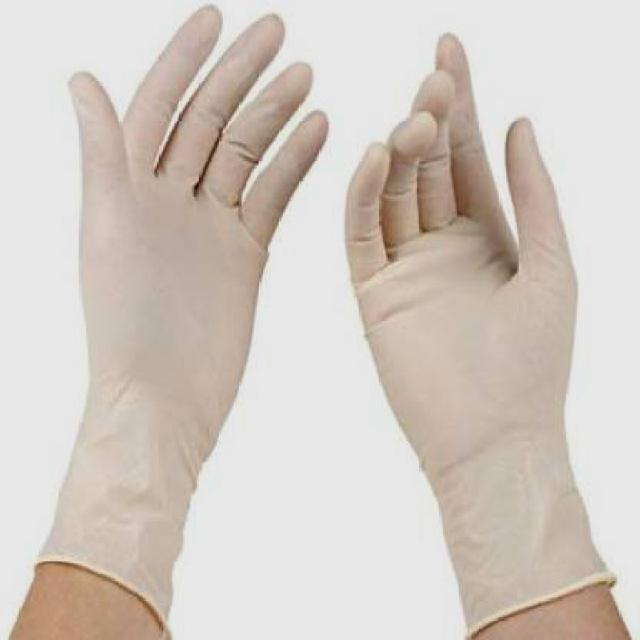glove: (1, 0, 617, 562), (1, 562, 2, 578)
